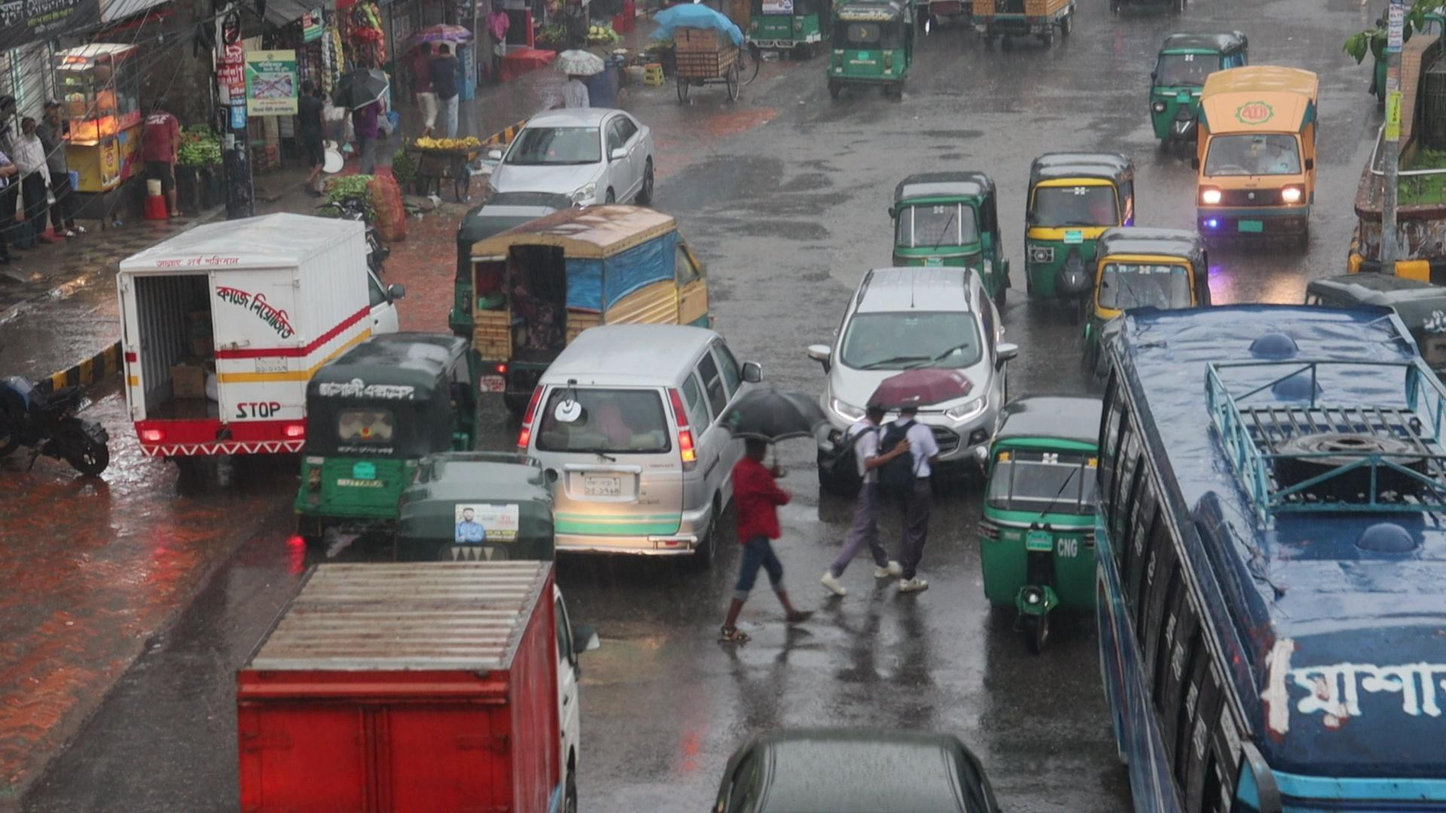Bus: (1072, 297, 1446, 813)
Car: (526, 324, 746, 568), (808, 260, 999, 480)
Truck: (229, 544, 601, 813), (1194, 62, 1318, 254)
